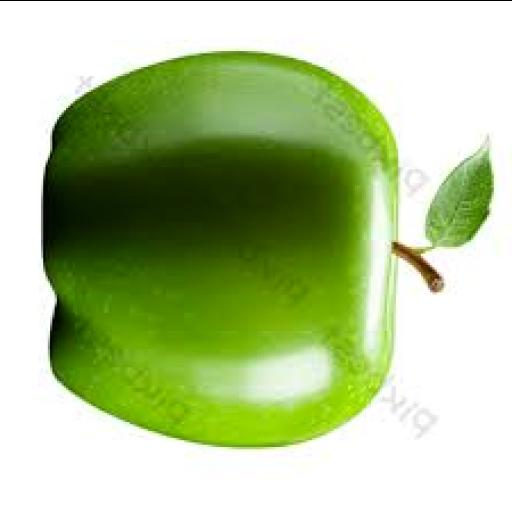apple: (45, 53, 397, 446)
